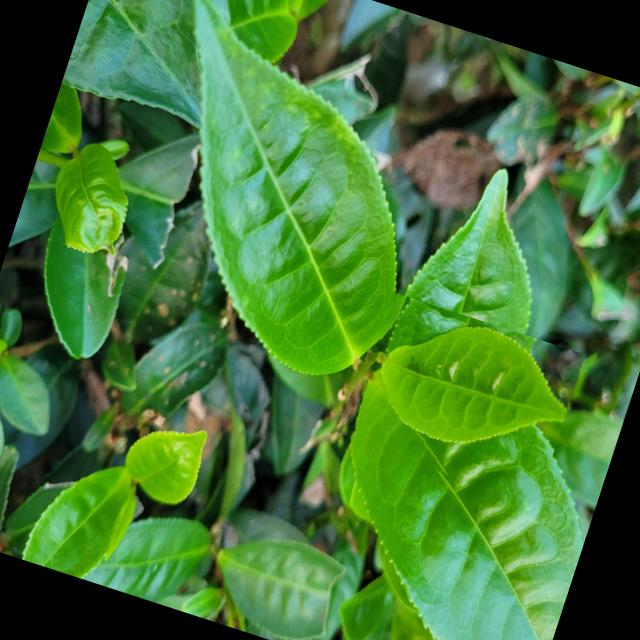Catagory A(1-2 days): (330, 288, 584, 510)
